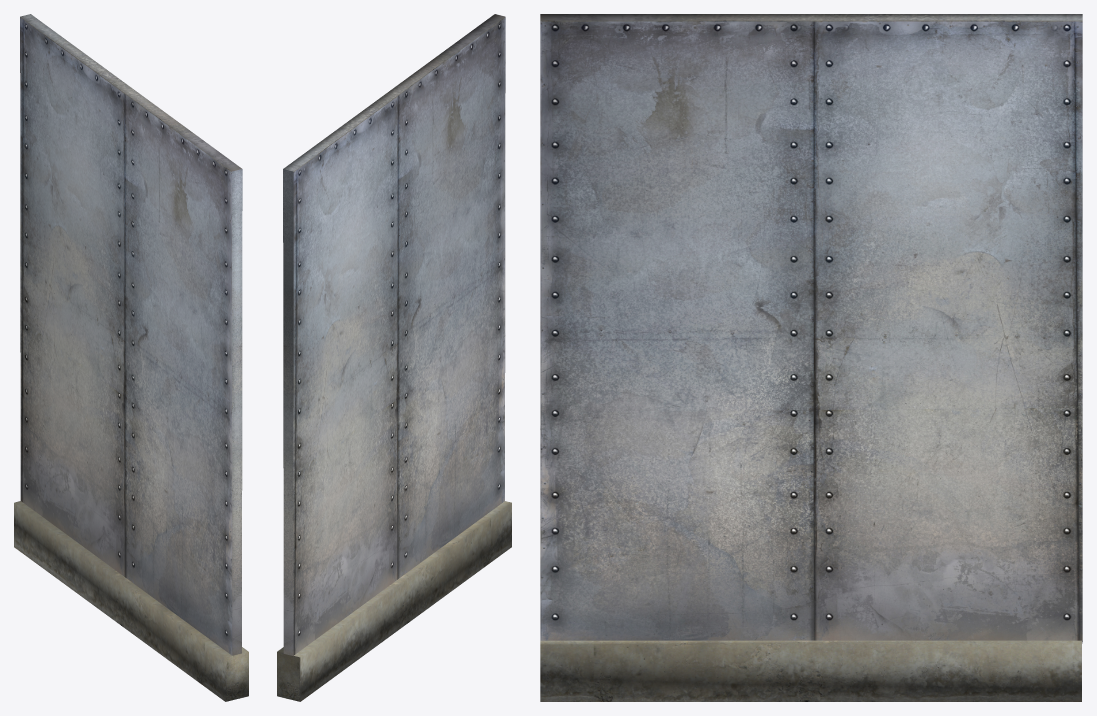
File: barrier_high_half.fbx
3 views of the same model, side by side, from view 1: azimuth 30°, elevation 25°; view 2: azimuth 150°, elevation 25°; view 3: azimuth 270°, elevation 25° (orthographic). The views are drawn at different scales.
Parts seen in each view (by area): view 1: barrier_high_half; view 2: barrier_high_half; view 3: barrier_high_half.
Part boxes in pixels (box(x1,y1,x2,y2)): barrier_high_half: box(14, 14, 248, 701); barrier_high_half: box(277, 14, 511, 701); barrier_high_half: box(540, 14, 1082, 701).
Bounding box in the file's own units: 6.39 × 138 × 100.
